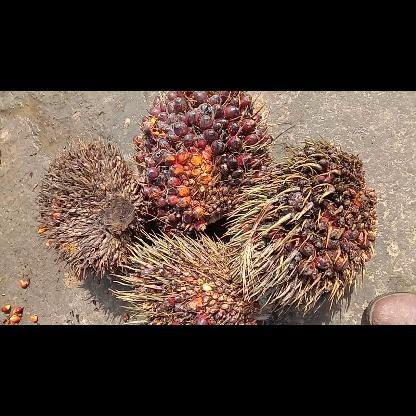Kurang masak: (228, 138, 376, 315)
TBS abnormal: (38, 142, 142, 278), (107, 232, 258, 324)
Terlalu masak: (131, 91, 269, 241)
